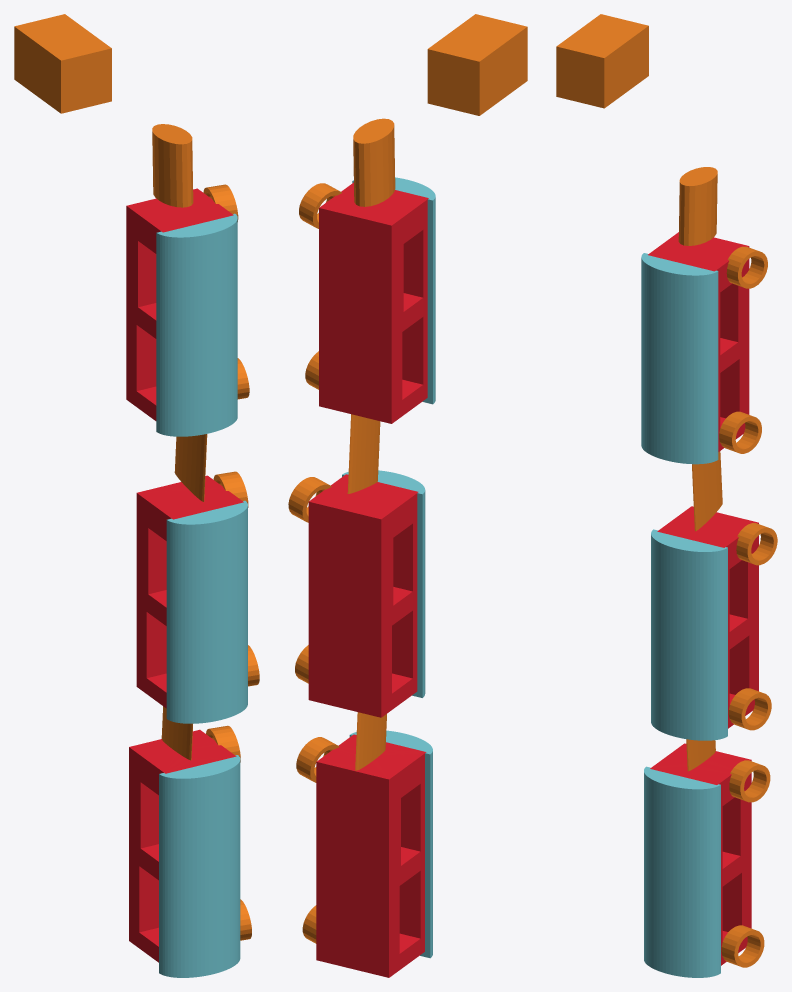
The model's file is tinker.obj.
The picture shows the model from 3 angles, left to right: view 1: azimuth 30°, elevation 25°; view 2: azimuth 150°, elevation 25°; view 3: azimuth 330°, elevation 25°; orthographic projection. The views are drawn at different scales.
Parts seen in each view (by area): view 1: group_0_7720667, group_0_15277357, group_0_16089887; view 2: group_0_15277357, group_0_16089887, group_0_7720667; view 3: group_0_7720667, group_0_16089887, group_0_15277357.
Boxes of the visible parts, bbox=[...] form: group_0_7720667: bbox=[156, 213, 247, 977]; group_0_15277357: bbox=[126, 188, 243, 962]; group_0_16089887: bbox=[14, 14, 259, 940]; group_0_15277357: bbox=[308, 182, 428, 977]; group_0_16089887: bbox=[288, 14, 527, 943]; group_0_7720667: bbox=[342, 177, 435, 958]; group_0_7720667: bbox=[641, 253, 727, 977]; group_0_16089887: bbox=[556, 14, 777, 967]; group_0_15277357: bbox=[648, 232, 758, 965].
Size of the model in its own units: 81 by 352 by 43.
